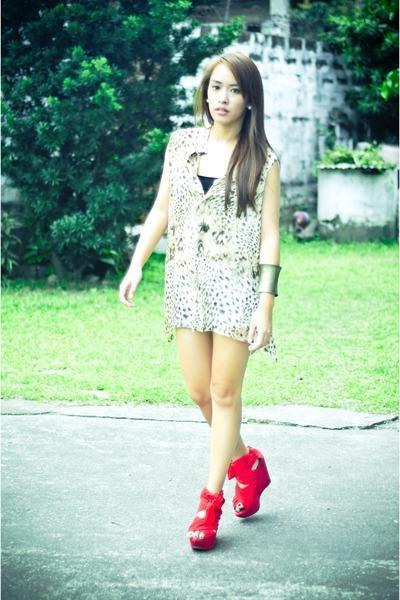dress: (147, 120, 282, 344)
